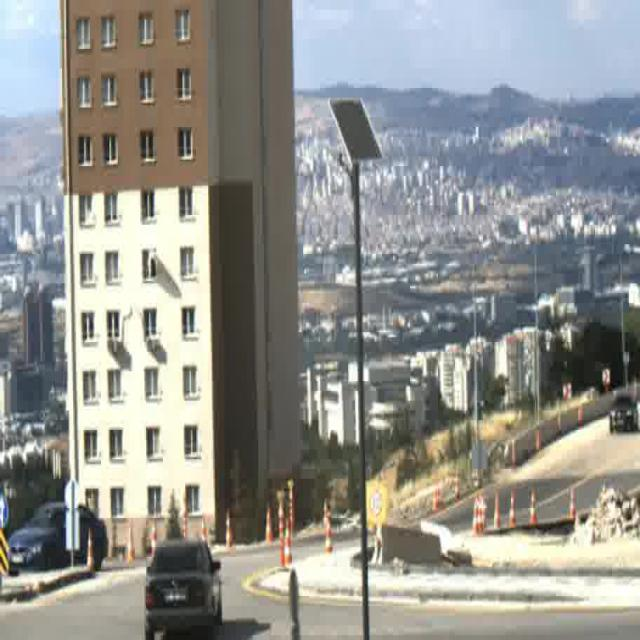Car: (144, 535, 220, 640), (7, 500, 108, 576), (610, 384, 638, 436)
